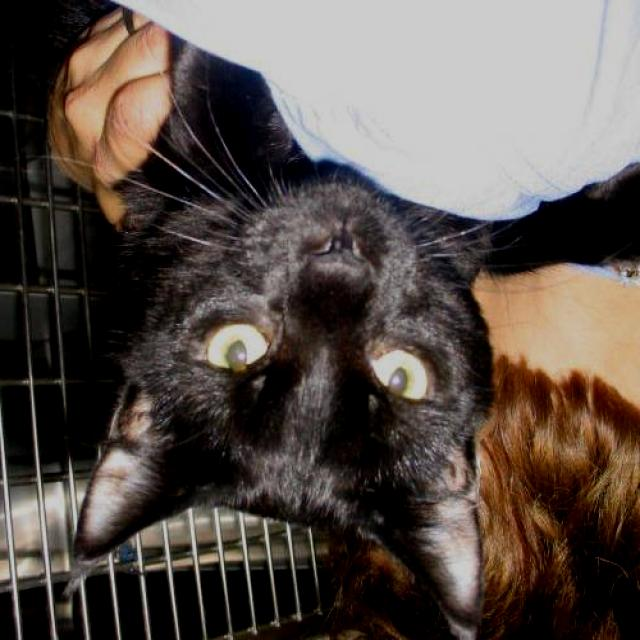Kucing: (43, 32, 542, 640)
